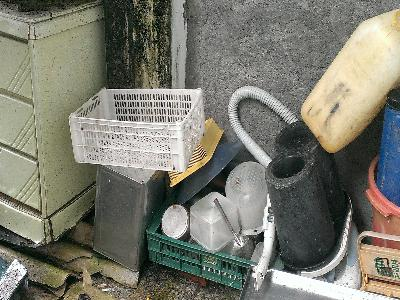bowl: (179, 140, 244, 206), (224, 161, 276, 238), (161, 203, 190, 241)
box: (189, 192, 241, 251)
bucket: (301, 8, 400, 155), (92, 160, 166, 272)
